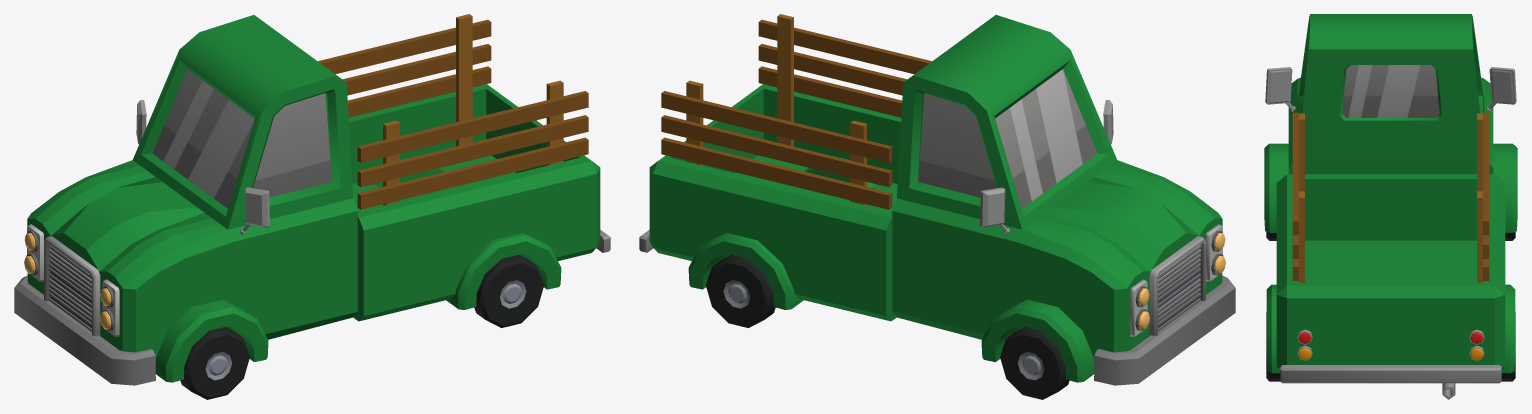
File: Car_12_L.gltf
3 renders of one model, left to right at view 1: azimuth 30°, elevation 25°; view 2: azimuth 150°, elevation 25°; view 3: azimuth 270°, elevation 25°, orthographic. The views are drawn at different scales.
Parts seen in each view (by area): view 1: Car_12_L, RL, FL; view 2: Car_12_L, RR, FR; view 3: Car_12_L.
Part boxes in pixels (x1,y1,x2,y2): Car_12_L: [14, 14, 610, 385]; RL: [474, 255, 544, 327]; FL: [180, 327, 249, 399]; Car_12_L: [639, 14, 1235, 385]; RR: [705, 255, 775, 327]; FR: [1000, 327, 1069, 399]; Car_12_L: [1264, 14, 1517, 399].
Size of the model in its own units: 3.82 by 2.01 by 1.73.
Materials: 4 (4 with a texture image).
